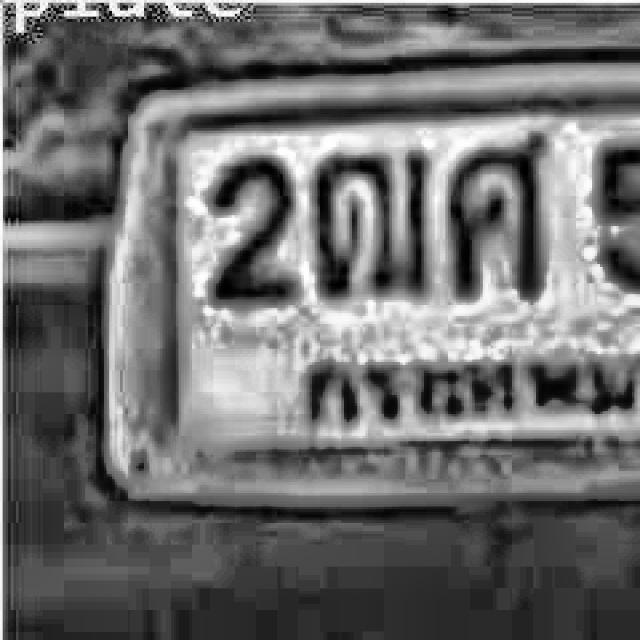license-plate: (88, 63, 640, 523)
